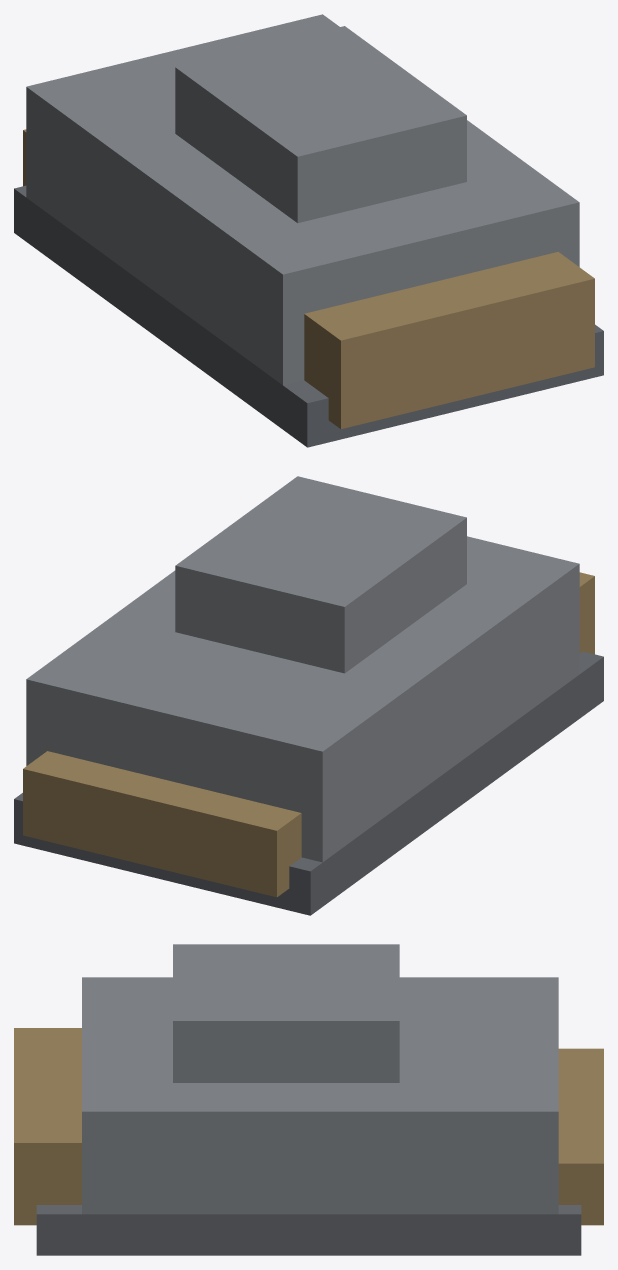
File: right_foot.glb
The picture shows the model from 3 angles, top to bottom: view 1: azimuth 30°, elevation 25°; view 2: azimuth 150°, elevation 25°; view 3: azimuth 270°, elevation 25°; orthographic projection. The views are drawn at different scales.
Bounding box in the file's own units: 14 × 10 × 26.
